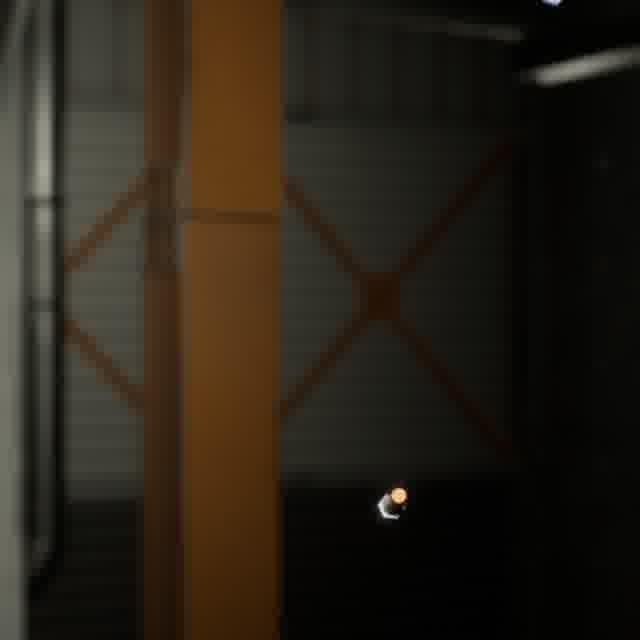bolt: (373, 483, 411, 523)
